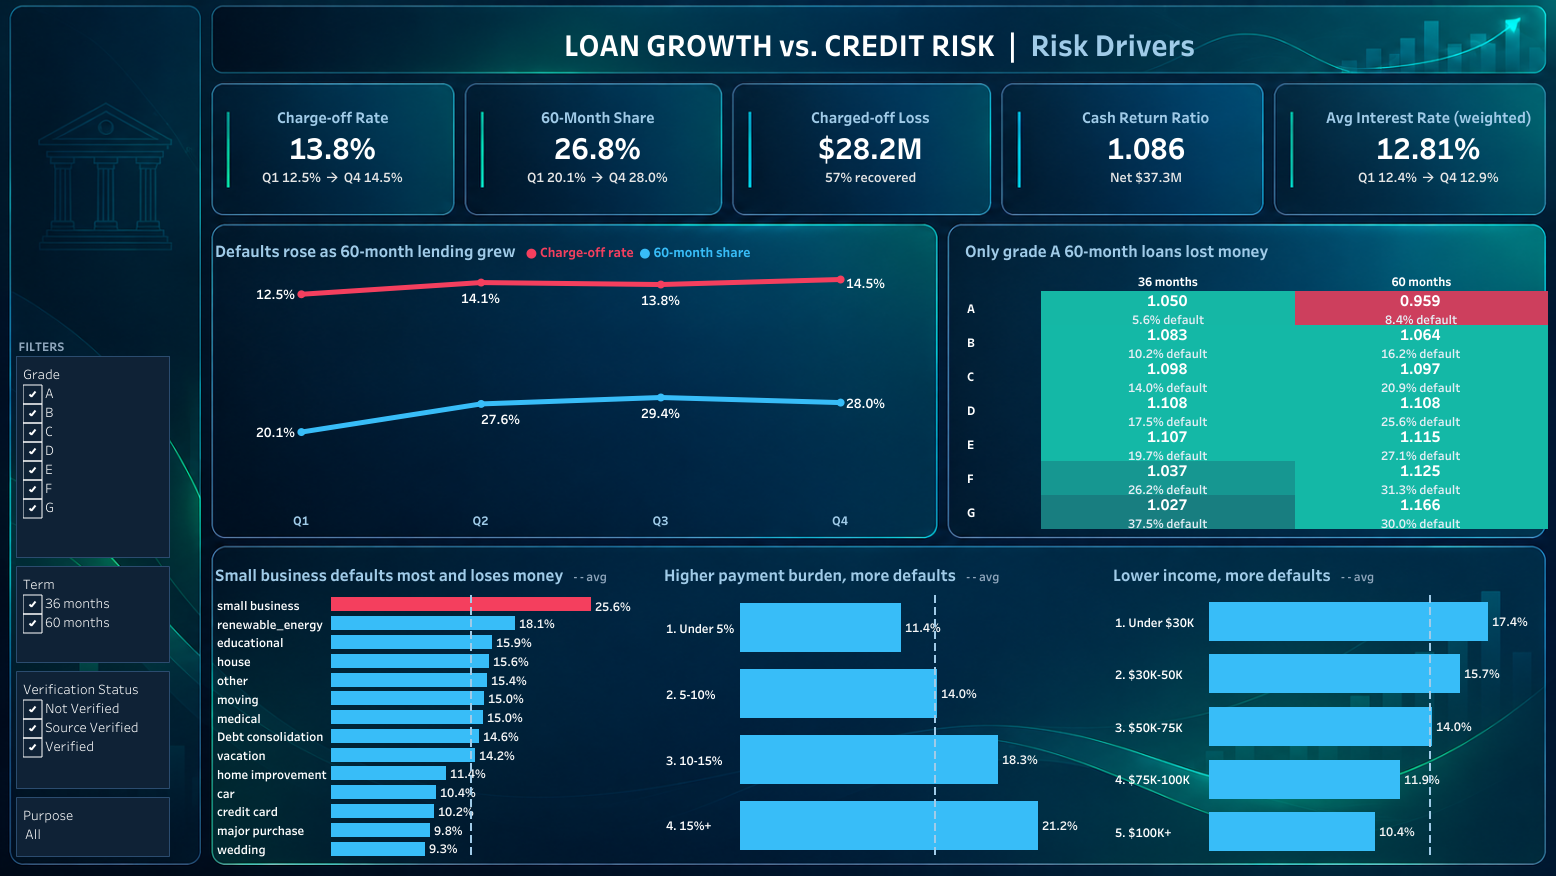

The page's visual inventory and layout, read from the dashboard file:
{"tool":"tableau","page":{"name":"Risk Drivers","canvas":[1600,900],"ordinal":0},"visuals":[{"type":"image","param":"Image/image1.png","box":[8,8,1584,884]},{"type":"text","box":[223.1,24,1356.6,64]},{"type":"worksheet","title":"Risk KPI 1","mark":"Text","box":[250,100,210,117]},{"type":"worksheet","title":"Risk KPI 2","mark":"Text","box":[508,100,224,117]},{"type":"worksheet","title":"Risk KPI 3","mark":"Text","box":[780,100,226,117]},{"type":"worksheet","title":"Risk KPI 4","mark":"Text","box":[1054,100,229,117]},{"type":"worksheet","title":"Risk KPI 5","mark":"Text","box":[1332,100,238,117]},{"type":"worksheet","title":"Risk Trend","mark":"Line","rows":["Calculation_9100000000000001","Calculation_9100000000000004"],"cols":["issue_date"],"box":[233,245,719,296]},{"type":"worksheet","title":"Risk Pricing","mark":"Square","rows":["grade"],"cols":["term"],"box":[983,245,587,296]},{"type":"text","box":[37.5,350,154,16]},{"type":"filter","title":"Risk KPI 1","param":"[federated.13vzdsn0al6ioo1g1fbnn06qu7pc].[none:grade:nk]","box":[37.5,368,154,202]},{"type":"worksheet","title":"Risk Purpose","mark":"Bar","rows":["purpose"],"cols":["Calculation_9100000000000001"],"box":[233,569,437,301]},{"type":"worksheet","title":"Risk PTI","mark":"Bar","rows":["Calculation_9100000000000007"],"cols":["Calculation_9100000000000001"],"box":[682,569,437,301]},{"type":"worksheet","title":"Risk Income","mark":"Bar","rows":["Calculation_9100000000000008"],"cols":["Calculation_9100000000000001"],"box":[1131,569,437,301]},{"type":"filter","title":"Risk KPI 1","param":"[federated.13vzdsn0al6ioo1g1fbnn06qu7pc].[none:term:nk]","box":[37.5,578,154,97]},{"type":"filter","title":"Risk KPI 1","param":"[federated.13vzdsn0al6ioo1g1fbnn06qu7pc].[none:verification_status:nk]","box":[37.5,683,154,118]},{"type":"filter","title":"Risk KPI 1","param":"[federated.13vzdsn0al6ioo1g1fbnn06qu7pc].[none:purpose:nk]","box":[37.5,809,154,60]}]}

Visuals, with their boxes in screenshot pixels (x1, y1, x2, y2), scaled from the page's 1600x900 canvas onto the 1556x876 screenshot:
image: 8 8 1548 868
text: 217 23 1536 86
"Risk KPI 1" worksheet (Text marks): 243 97 447 211
"Risk KPI 2" worksheet (Text marks): 494 97 712 211
"Risk KPI 3" worksheet (Text marks): 759 97 978 211
"Risk KPI 4" worksheet (Text marks): 1025 97 1248 211
"Risk KPI 5" worksheet (Text marks): 1295 97 1527 211
"Risk Trend" worksheet (Line marks): 227 238 926 527
"Risk Pricing" worksheet (Square marks): 956 238 1527 527
text: 36 341 186 356
"Risk KPI 1" filter: 36 358 186 555
"Risk Purpose" worksheet (Bar marks): 227 554 652 847
"Risk PTI" worksheet (Bar marks): 663 554 1088 847
"Risk Income" worksheet (Bar marks): 1100 554 1525 847
"Risk KPI 1" filter: 36 563 186 657
"Risk KPI 1" filter: 36 665 186 780
"Risk KPI 1" filter: 36 787 186 846
